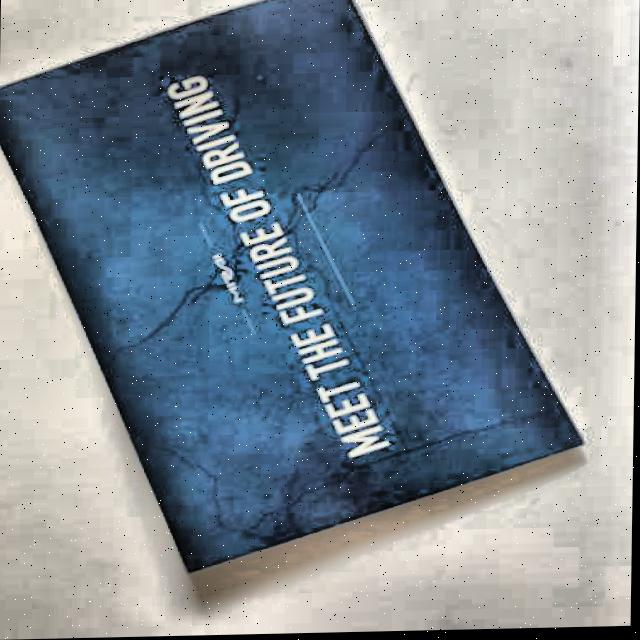paper: (0, 0, 594, 579)
